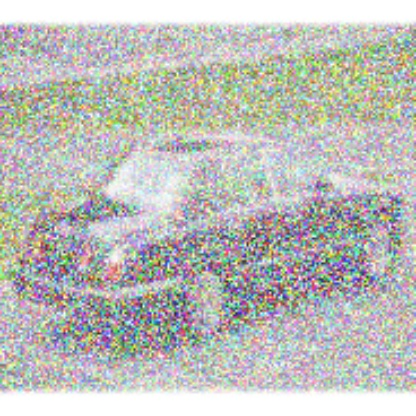Vehicle: (11, 130, 409, 346)
